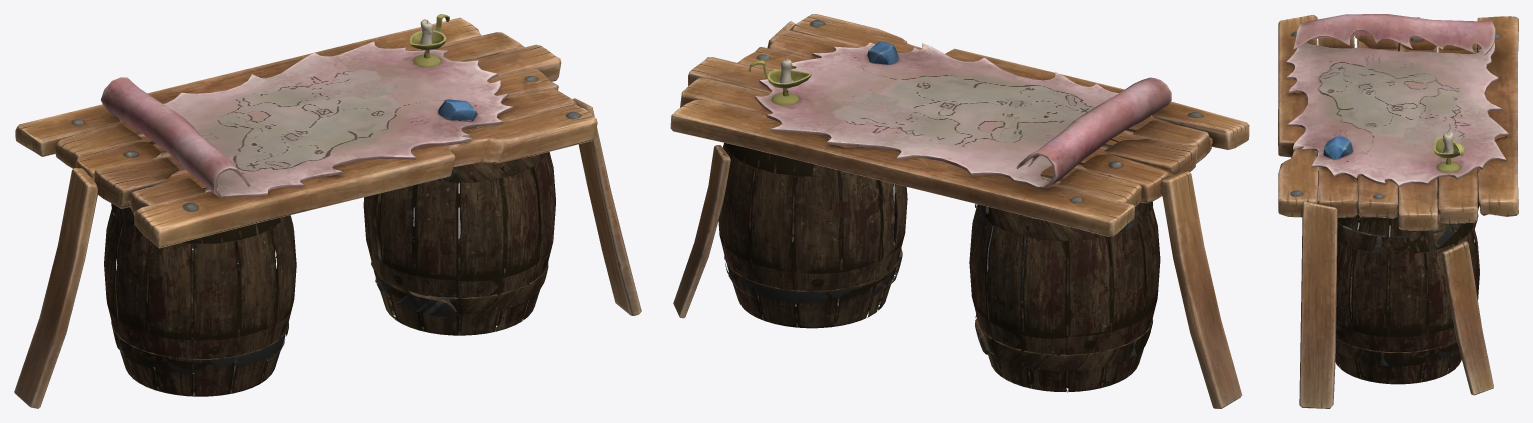
3 views of the same model, side by side, from view 1: azimuth 30°, elevation 25°; view 2: azimuth 150°, elevation 25°; view 3: azimuth 270°, elevation 25° (orthographic). The views are drawn at different scales.
Parts seen in each view (by area): view 1: SM_Makeshift_Table_Half-Drawn_Map_01_LOD0; view 2: SM_Makeshift_Table_Half-Drawn_Map_01_LOD0; view 3: SM_Makeshift_Table_Half-Drawn_Map_01_LOD0.
Part boxes in pixels (x1=…): SM_Makeshift_Table_Half-Drawn_Map_01_LOD0: x1=14, y1=14, x2=641, y2=408; SM_Makeshift_Table_Half-Drawn_Map_01_LOD0: x1=670, y1=14, x2=1249, y2=408; SM_Makeshift_Table_Half-Drawn_Map_01_LOD0: x1=1278, y1=14, x2=1518, y2=408.
Bounding box in the file's own units: 2.34 × 1.06 × 1.03.
Materials: 2 (2 with a texture image).
